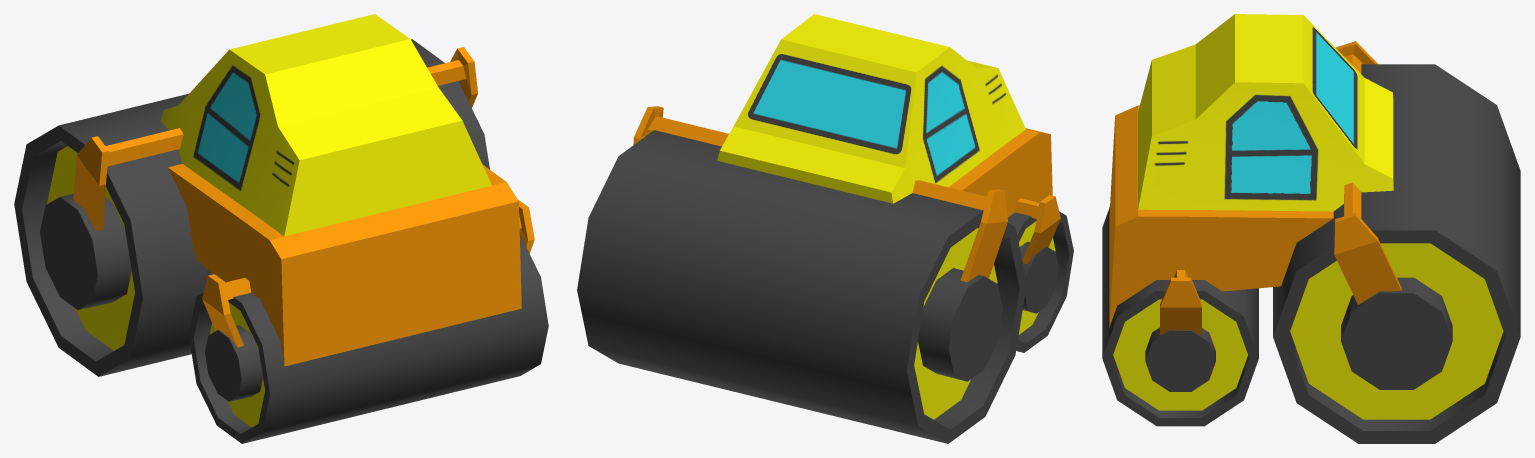
The model's file is Auto.FBX.
The picture shows the model from 3 angles, left to right: view 1: azimuth 30°, elevation 25°; view 2: azimuth 150°, elevation 25°; view 3: azimuth 270°, elevation 25°; orthographic projection. The views are drawn at different scales.
Visible parts, largest first — view 1: Box087; view 2: Box087; view 3: Box087.
Boxes of the visible parts, x1,y1,x2,y2 form: Box087: (14,14,548,443); Box087: (577,14,1073,443); Box087: (1102,14,1520,443).
Size of the model in its own units: 0.9884 by 0.8093 by 0.9835.
4 materials, 4 textured.
